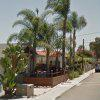Palm tree: (17, 3, 57, 75)
